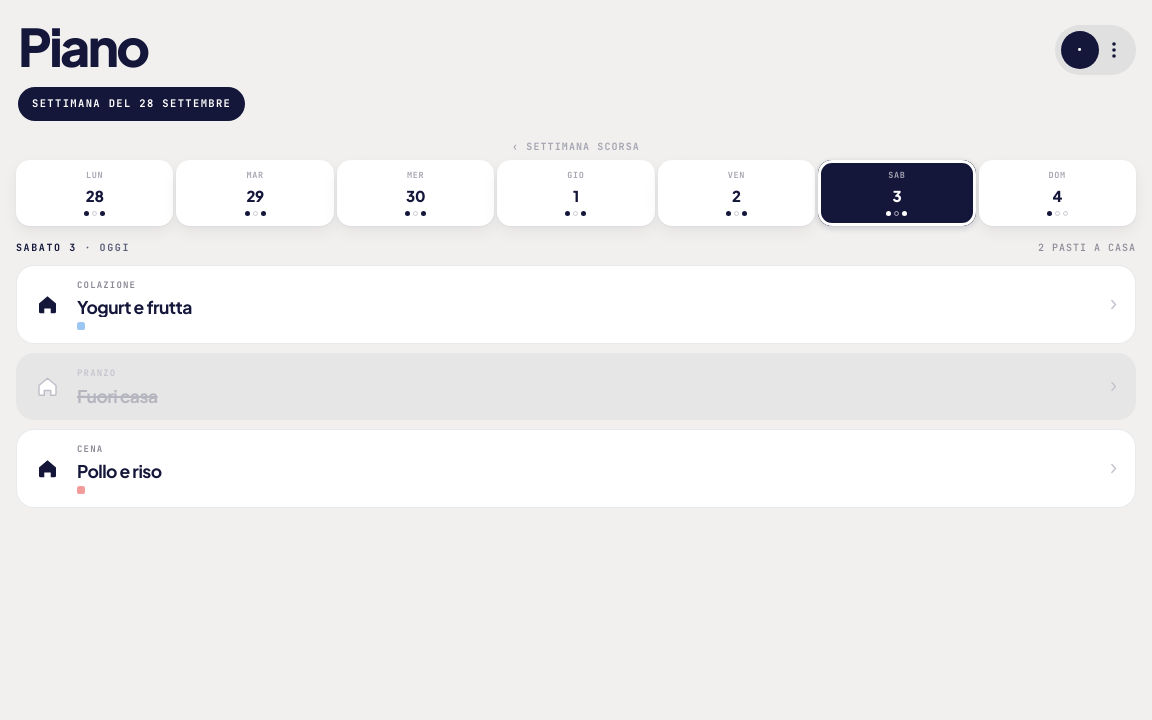
Test: Settimana (piano alimentare) › il conteggio nell'etichetta è quello del giorno scelto, non della settimana
Expected: the text "Yogurt e frutta" is shown, [77,297,192,317]
Expected: the text "2 PASTI A CASA" is shown, [1038,240,1136,254]
Click the button "DOM 4". click: (1057, 193)
box: [978,160,1136,226]
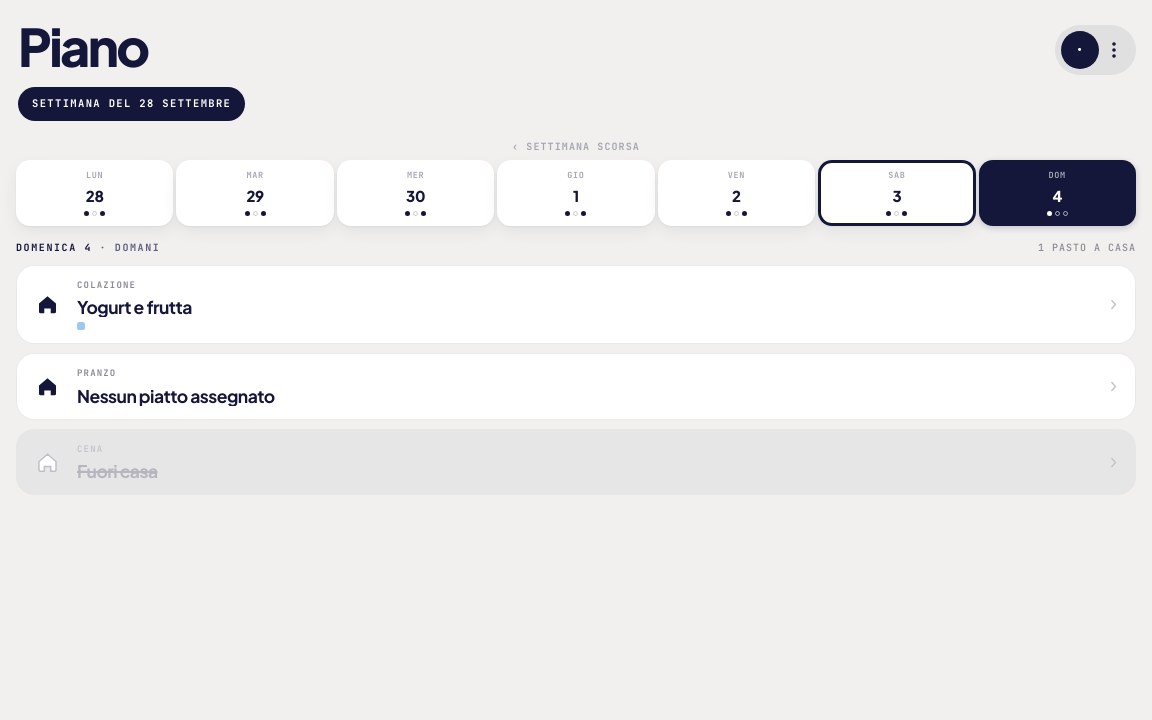
Now the text "1 PASTO A CASA" is shown, box [1038,240,1136,254]
